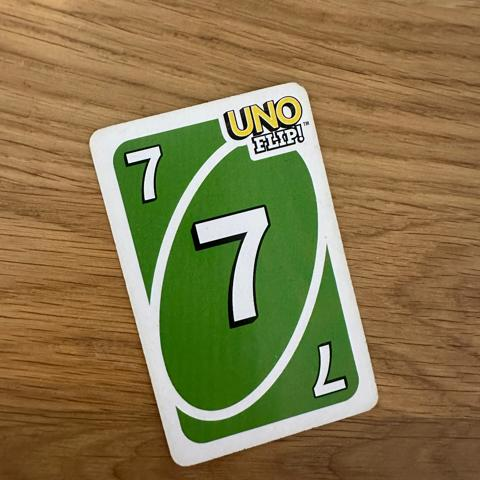lgreen-7: (114, 134, 172, 210)
